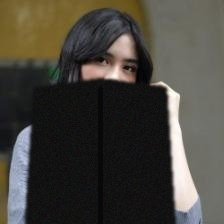Cadar_Niqab: (25, 5, 176, 224)
